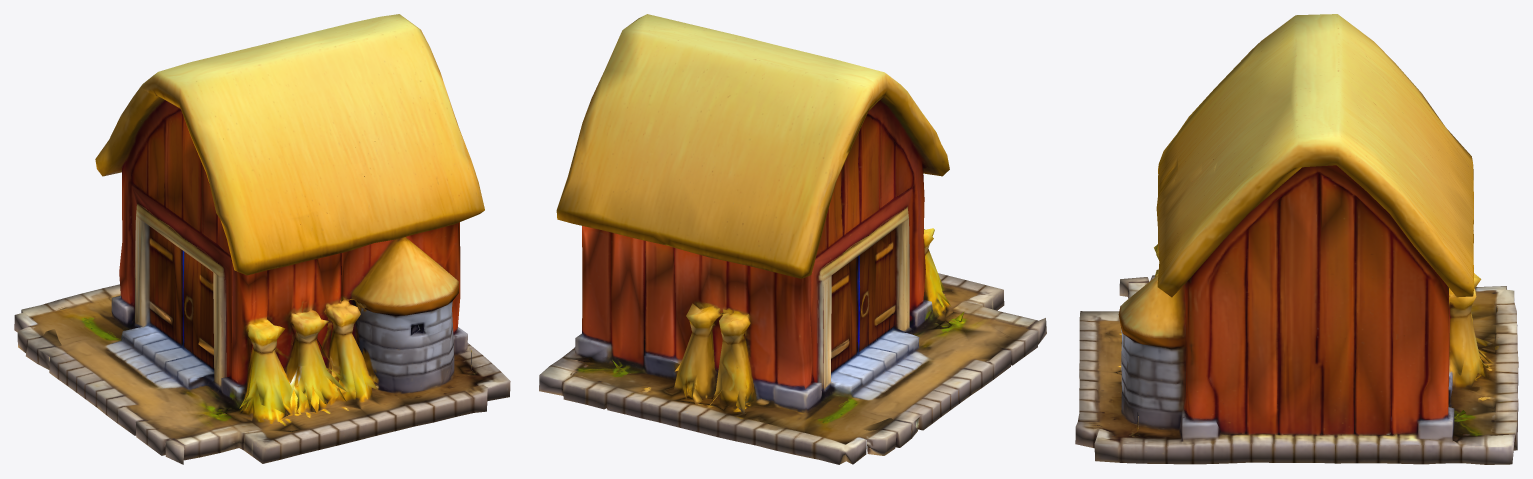
File: farm.glb
3 views of the same model, side by side, from view 1: azimuth 30°, elevation 25°; view 2: azimuth 150°, elevation 25°; view 3: azimuth 270°, elevation 25° (orthographic). The views are drawn at different scales.
Parts seen in each view (by area): view 1: geometry_0.001; view 2: geometry_0.001; view 3: geometry_0.001.
Part boxes in pixels (x1,y1,x2,y2): geometry_0.001: (14,14,510,464); geometry_0.001: (539,14,1046,464); geometry_0.001: (1075,14,1518,464).
Size of the model in its own units: 1.84 by 1.61 by 1.99.
1 material, 1 textured.
